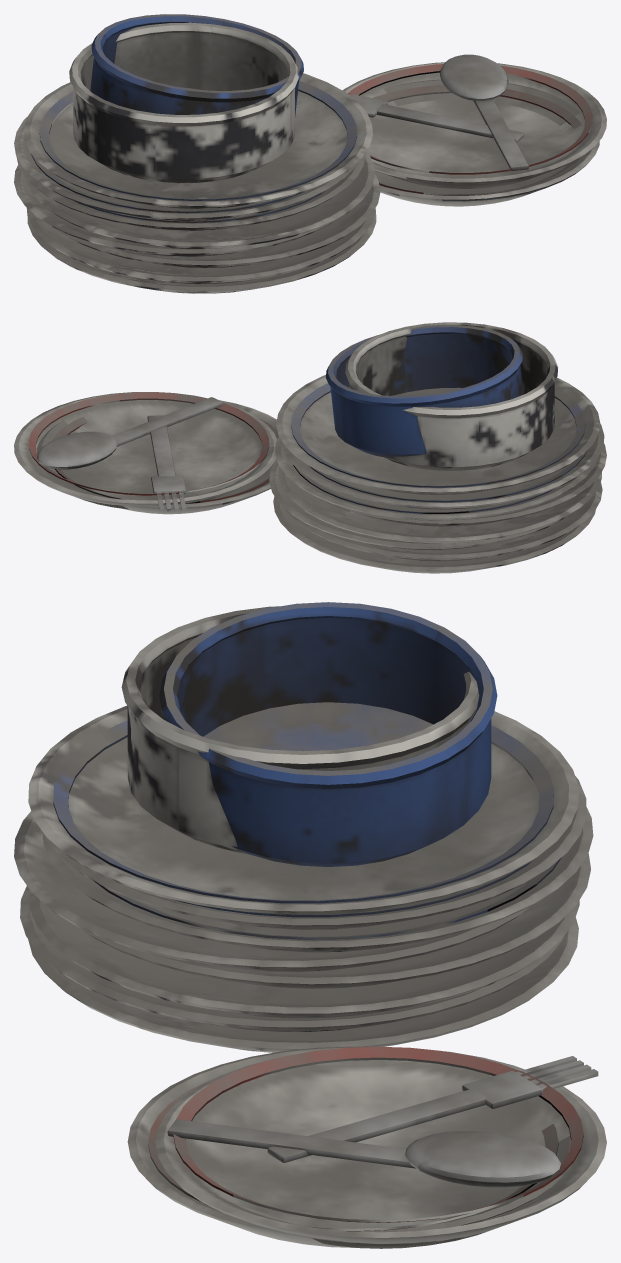
The model's file is SM_Plates_Stack.fbx.
3 views of the same model, one above another, from view 1: azimuth 30°, elevation 25°; view 2: azimuth 150°, elevation 25°; view 3: azimuth 270°, elevation 25° (orthographic). The views are drawn at different scales.
Visible parts, largest first — view 1: SM_Plates_Stack; view 2: SM_Plates_Stack; view 3: SM_Plates_Stack.
Part boxes in pixels (box(x1,y1,x2,y2)): SM_Plates_Stack: box(14, 14, 606, 293); SM_Plates_Stack: box(14, 322, 606, 573); SM_Plates_Stack: box(14, 602, 606, 1248).
Bounding box in the file's own units: 0.4158 × 0.1366 × 0.2364.
1 material, 1 textured.
